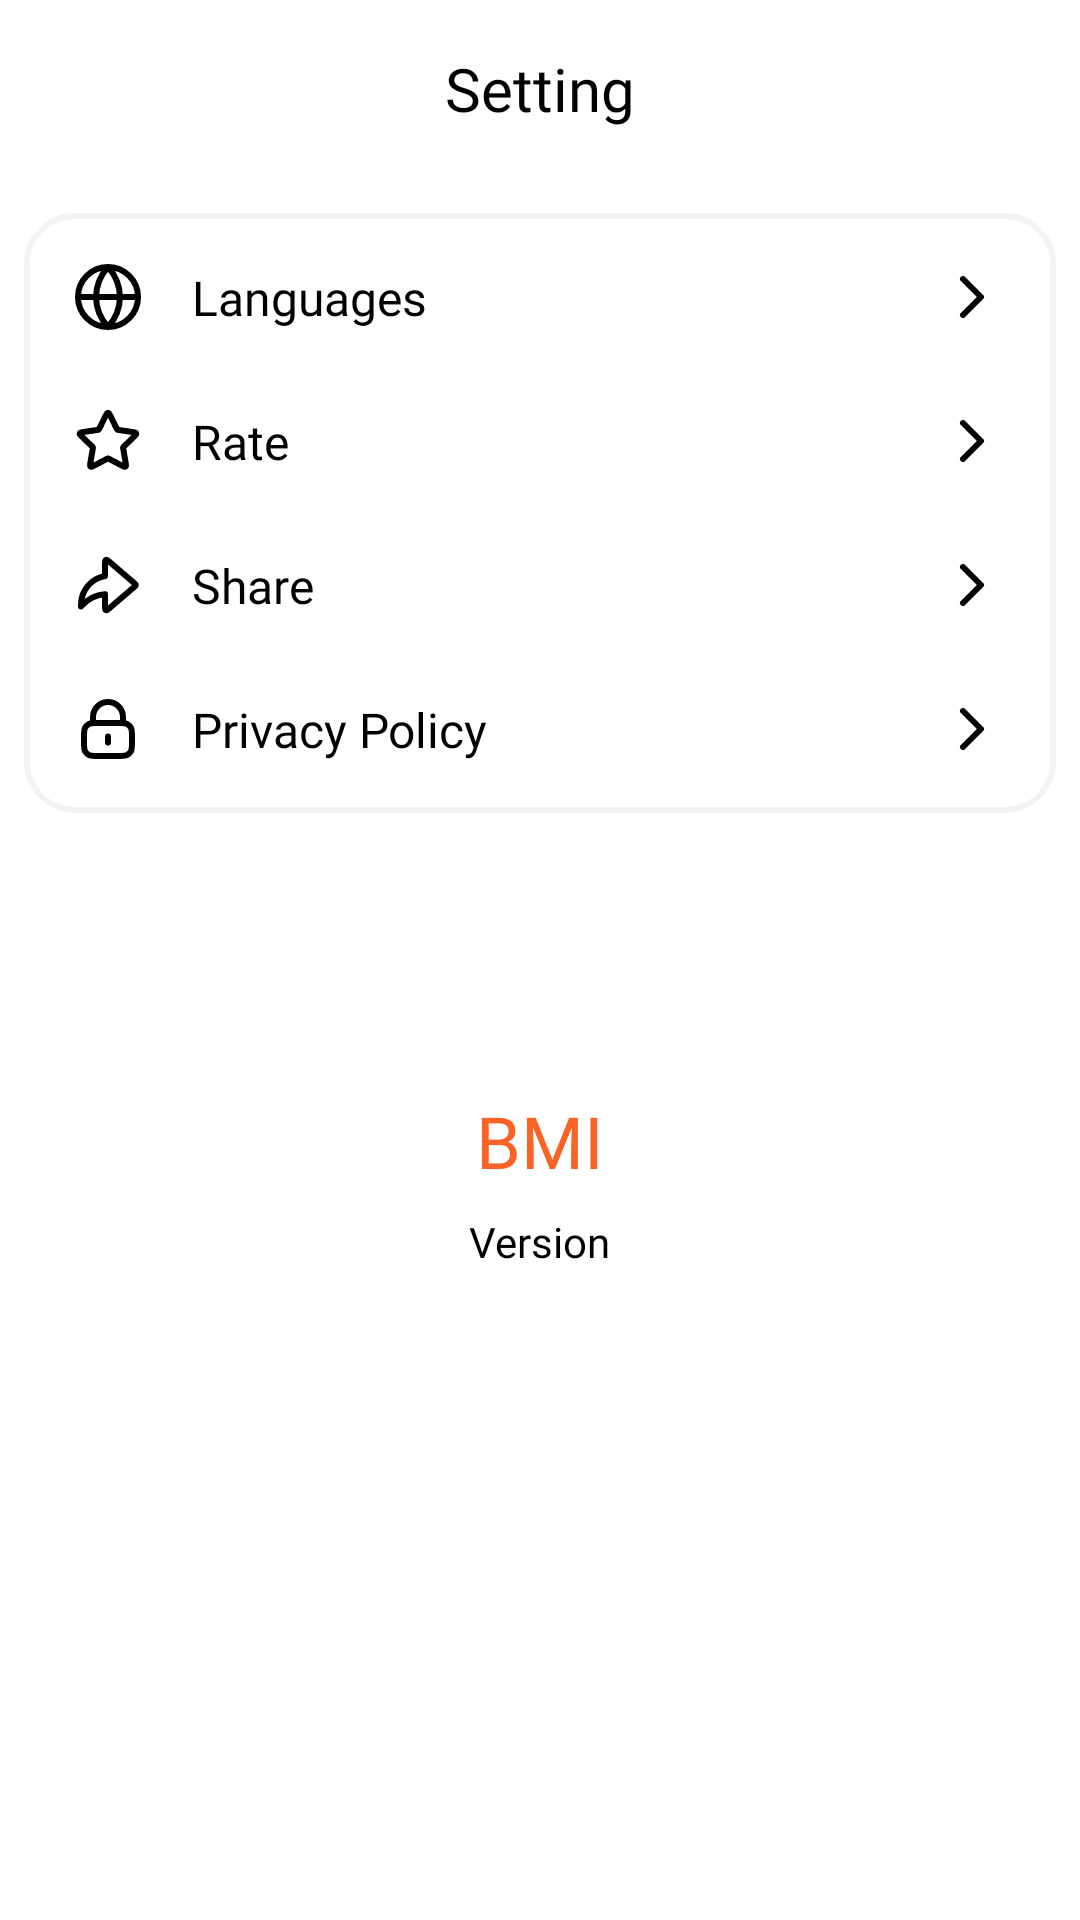

Screen size 1080px×1920px. Icon name, then its center in pixels as (x,y):
chevron right: (972,297), (972,441), (972,585), (972,729)
